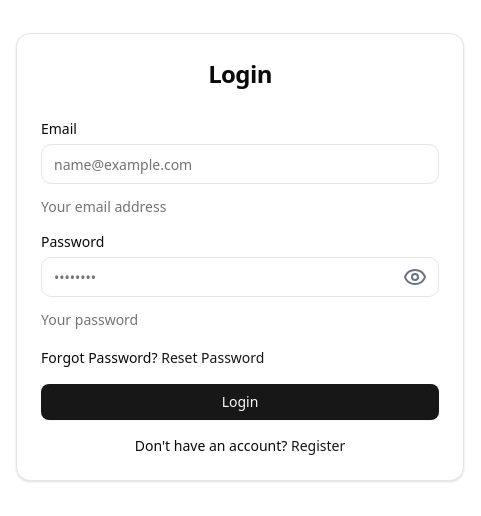
it: Formulario de Login › Validación de campos › debe validar que el email no es válido
Type "invalid-email" into the field named "email" at (240, 164), box [41,144,439,184]
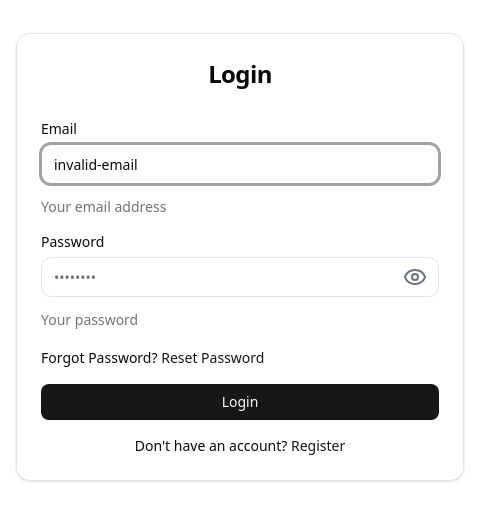
Type "password123" into the password field named "password" at (240, 277), box [41,257,439,297]
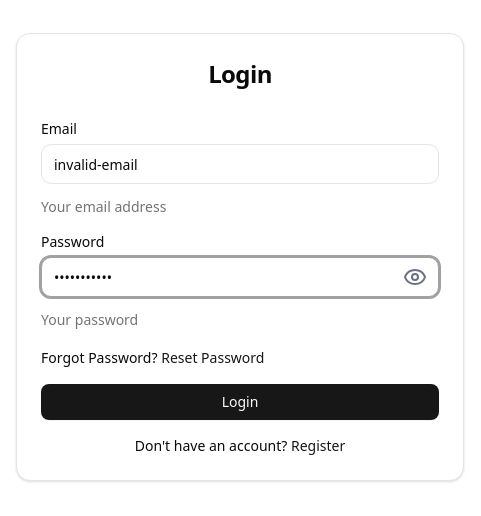
Click the button "Login" at (240, 402), box [41,384,439,420]
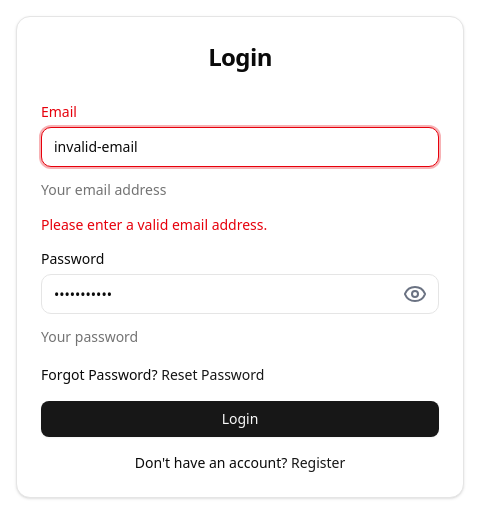
Now the text "Please enter a valid email address" is shown, box [41,215,267,234]
